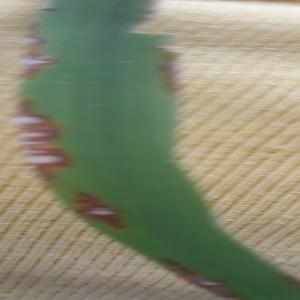1 RiceBlast: (67, 187, 128, 232), (6, 104, 67, 138), (175, 259, 231, 292), (22, 145, 70, 172), (9, 51, 65, 70), (19, 130, 76, 148), (19, 25, 54, 53)
